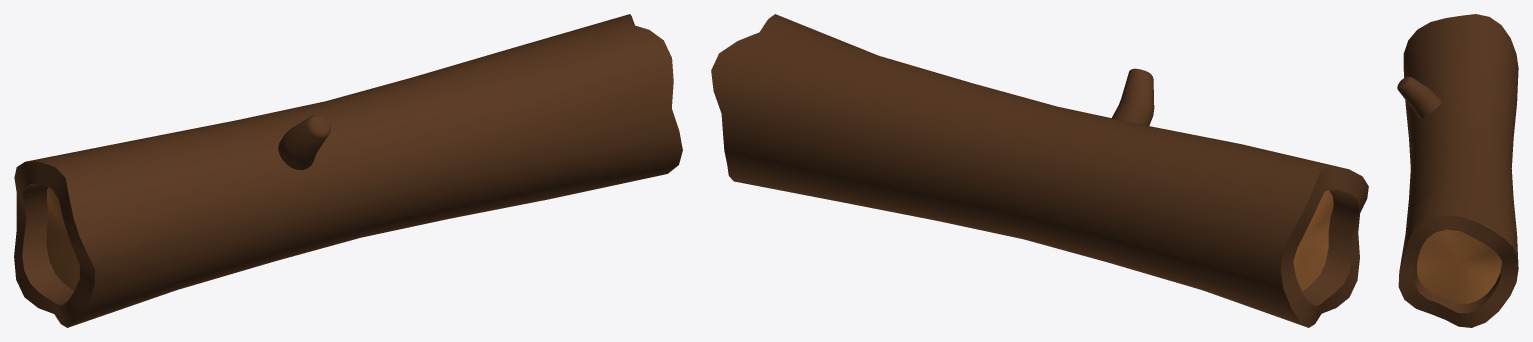
The model's file is TreeLog.fbx.
3 renders of one model, left to right at view 1: azimuth 30°, elevation 25°; view 2: azimuth 150°, elevation 25°; view 3: azimuth 270°, elevation 25°, orthographic. The views are drawn at different scales.
Parts seen in each view (by area): view 1: Log; view 2: Log; view 3: Log.
Part boxes in pixels (x1,y1,x2,y2): Log: (14, 14, 682, 327); Log: (711, 14, 1368, 327); Log: (1397, 14, 1518, 327).
Size of the model in its own units: 3.29 by 0.8907 by 0.7919.
